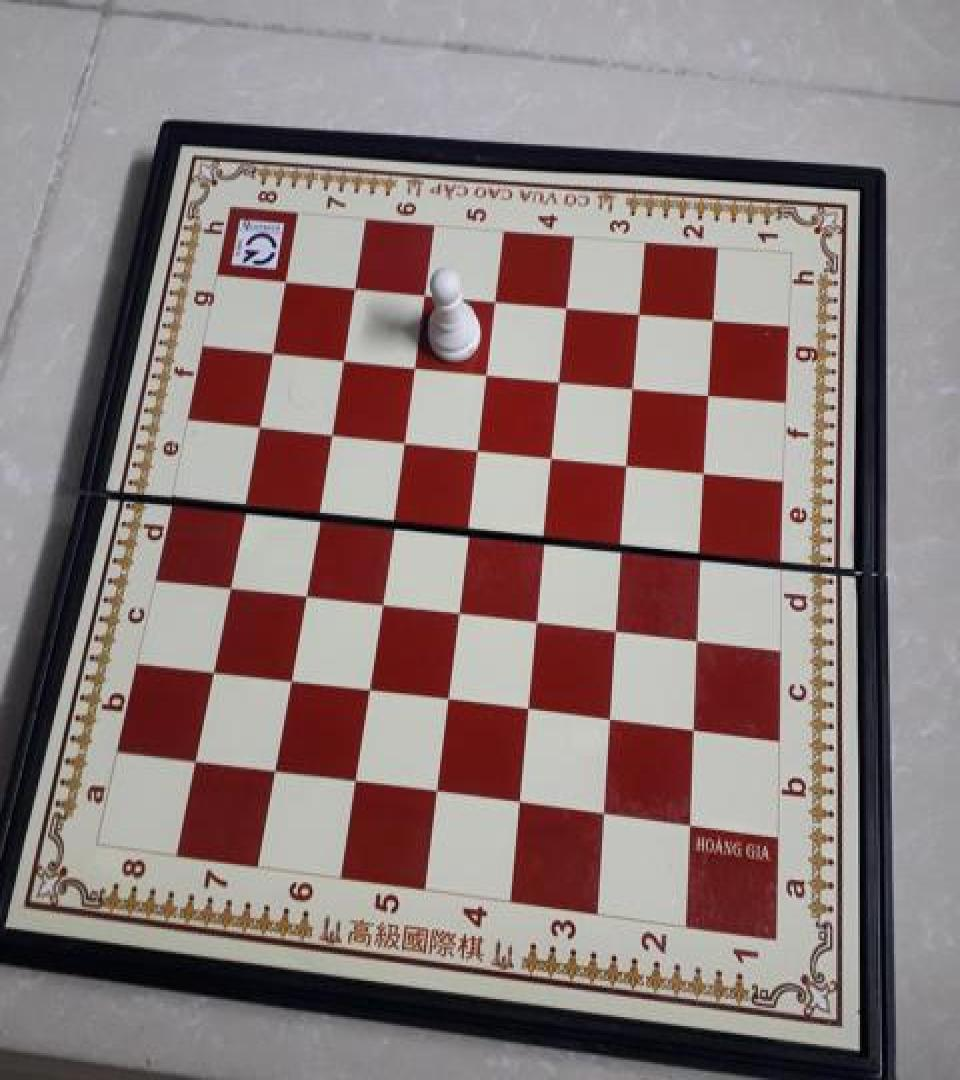xcorner: (345, 765, 373, 797), (427, 775, 455, 807), (509, 786, 537, 818), (599, 702, 627, 734), (682, 713, 710, 745), (218, 567, 246, 599), (293, 576, 321, 608), (370, 585, 398, 617), (447, 594, 475, 626), (526, 603, 554, 635), (605, 612, 633, 644), (686, 622, 714, 654), (233, 486, 261, 518), (690, 535, 718, 567), (248, 408, 276, 440), (319, 416, 347, 448), (392, 423, 420, 455), (616, 445, 644, 477), (693, 453, 721, 485), (261, 335, 289, 367), (331, 342, 359, 374), (475, 355, 503, 387), (547, 362, 575, 394), (621, 369, 649, 401), (274, 264, 302, 296), (343, 271, 371, 303), (483, 283, 511, 315), (554, 289, 582, 321), (185, 744, 213, 775), (265, 754, 293, 785), (593, 798, 621, 829), (678, 809, 706, 840), (202, 654, 230, 685), (279, 663, 307, 694), (358, 673, 386, 704), (437, 682, 465, 713), (518, 692, 546, 723), (307, 494, 335, 525), (381, 502, 409, 533), (457, 511, 485, 542), (533, 519, 561, 550), (611, 528, 639, 559), (466, 431, 494, 462), (541, 439, 569, 470), (403, 349, 431, 380), (696, 376, 724, 407), (412, 277, 440, 308), (626, 296, 654, 327), (699, 303, 727, 334)
